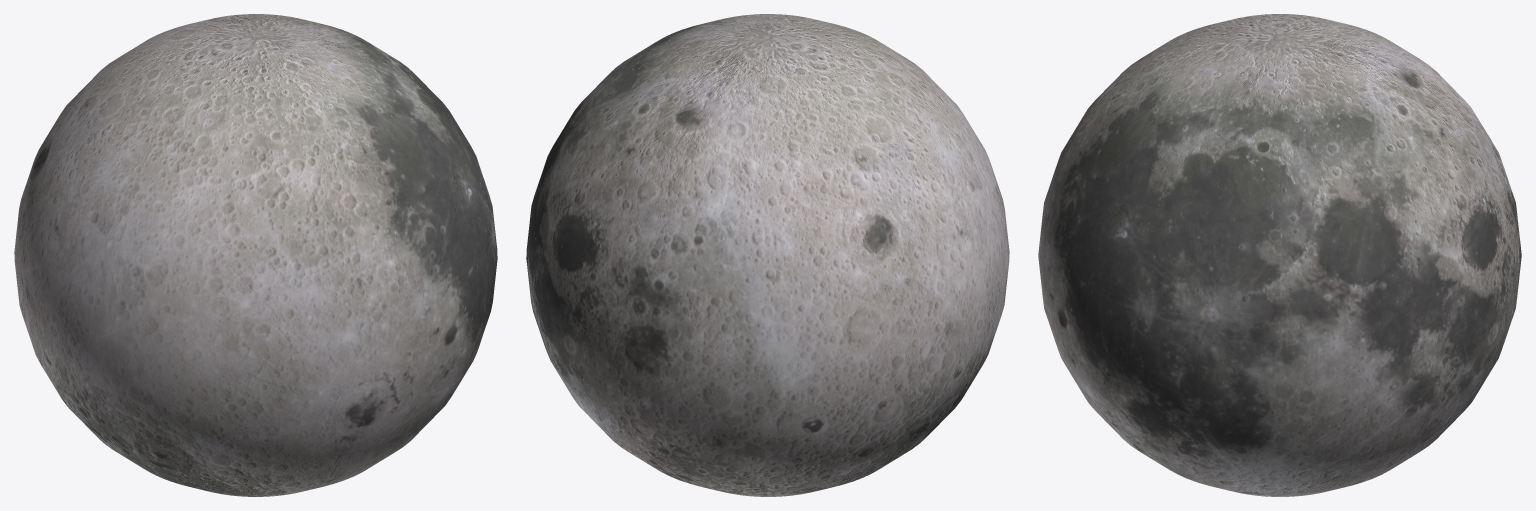
File: місяць.glb
The picture shows the model from 3 angles, left to right: view 1: azimuth 30°, elevation 25°; view 2: azimuth 150°, elevation 25°; view 3: azimuth 270°, elevation 25°; orthographic projection.
Parts seen in each view (by area): view 1: Sphere; view 2: Sphere; view 3: Sphere.
Boxes of the visible parts, left/top/right/bottom form: Sphere: left=14, top=14, right=497, bottom=496; Sphere: left=526, top=14, right=1009, bottom=496; Sphere: left=1038, top=14, right=1521, bottom=496.
Bounding box in the file's own units: 2 × 2 × 2.
1 material, 1 textured.
